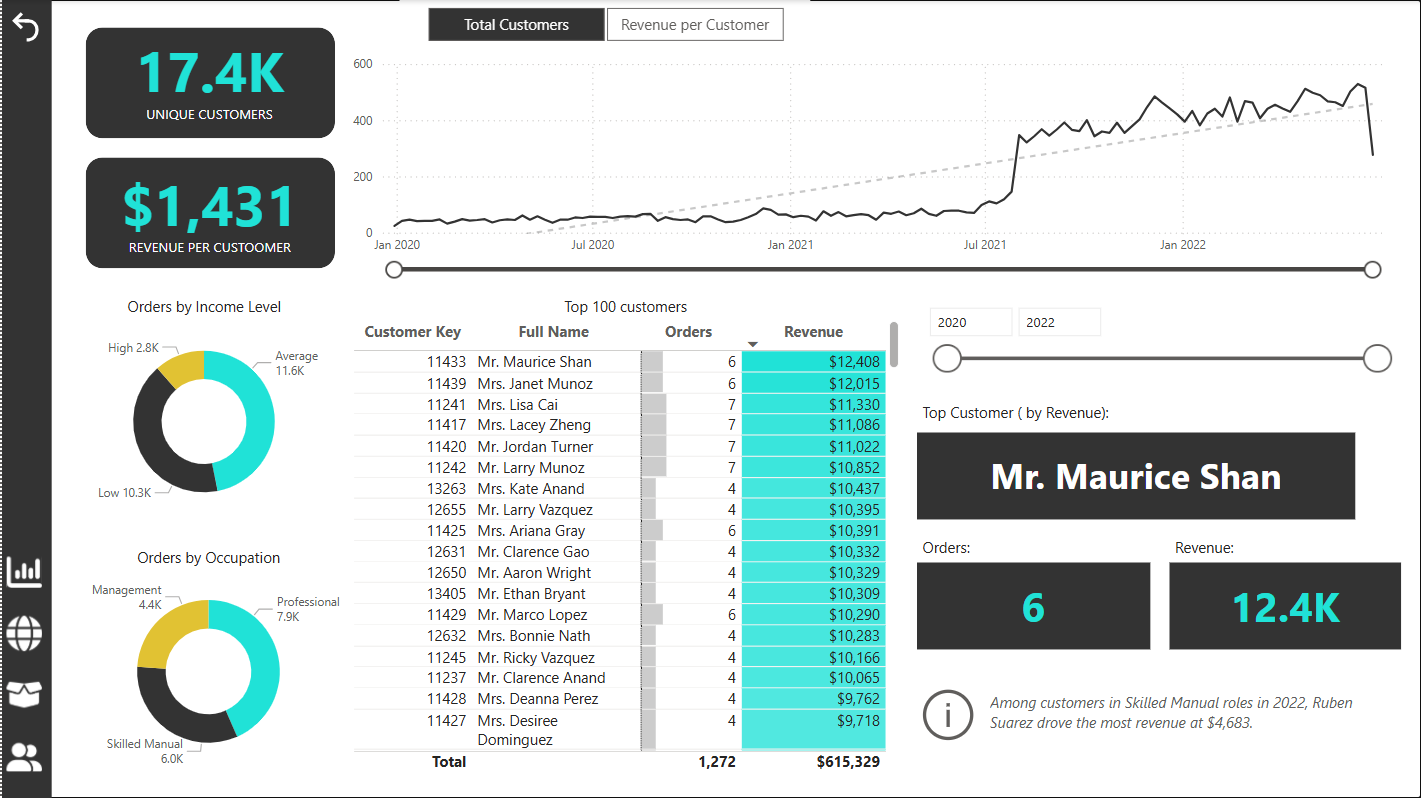

The dashboard page shown, as its layout file describes it:
{"tool":"powerbi","page":{"name":"Customer Detail","canvas":[1280,720],"ordinal":3},"visuals":[{"type":"shape","box":[75,25,225,100],"z":0},{"type":"actionButton","box":[0.3,496.5,45.2,40.4],"z":1000,"group":"g1"},{"type":"shape","box":[75,142.5,225,100],"z":1000},{"type":"card","fields":{"Values":["Measure Table.Total Customers"]},"box":[62.9,0,248.6,140],"z":2000},{"type":"actionButton","box":[0.3,607.4,45.2,40.4],"z":2000,"group":"g1"},{"type":"card","fields":{"Values":["Measure Table.Average Revenue per Customer"]},"box":[64.3,125.7,247.1,128.6],"z":3000},{"type":"actionButton","box":[0.3,662.8,45.2,40.4],"z":3000,"group":"g1"},{"type":"shape","box":[0,0,45,720],"z":4000},{"type":"actionButton","box":[0.3,551.9,45.2,40.4],"z":4000,"group":"g1"},{"type":"donutChart","title":"Orders by Income Level","fields":{"Category":["Customer Lookup.Income Level"],"Y":["Measure Table.Total Orders"]},"box":[63.8,267.5,236.2,208.8],"z":5000},{"type":"donutChart","title":"Orders by Occupation","fields":{"Y":["Measure Table.Total Orders"],"Category":["Customer Lookup.Occupation"]},"box":[62.5,493.8,248.8,206.2],"z":6000},{"type":"tableEx","title":"Top 100 customers","fields":{"Values":["Customer Lookup.CustomerKey","Customer Lookup.Full Name","Measure Table.Total Orders","Measure Table.Total Revenue"]},"box":[311.2,267.5,502.5,433.8],"z":7000},{"type":"card","fields":{"Values":["Measure Table.Full Name (Customer Detail)"]},"box":[825,389.5,395.4,78.2],"z":8000},{"type":"textbox","box":[825,356.7,271.6,31.3],"z":9000},{"type":"card","fields":{"Values":["Measure Table.Total Orders (Customer Detail)"]},"box":[825,507.1,210.5,78.2],"z":10000},{"type":"card","fields":{"Values":["Measure Table.Total Revenue (Customer Detail)"]},"box":[1052.6,507.1,209.1,78.2],"z":11000},{"type":"textbox","box":[825,479.1,136.5,28.4],"z":12000},{"type":"textbox","box":[1052.6,479.1,153.6,32.7],"z":13000},{"type":"slicer","fields":{"Values":["Calendar Lookup.Year"]},"box":[823.8,267.5,437.5,93.8],"z":14000},{"type":"lineChart","title":"Weekly Customers","fields":{"Y":["Measure Table.Total Customers"],"Category":["Calendar Lookup.Date Hierarchy2.Year","Calendar Lookup.Date Hierarchy2.Start of Month","Calendar Lookup.Date Hierarchy2.Start of Week","Calendar Lookup.Date Hierarchy2.Date"]},"box":[311.2,43.8,951.2,210],"z":15000},{"type":"actionButton","box":[824.2,615.1,437.8,58.7],"z":16000},{"type":"actionButton","box":[3.7,4.9,36.7,39.1],"z":17000},{"type":"group","id":"g1","title":"Navigation button","box":[0.3,496.5,45.2,206.7],"z":18000},{"type":"slicer","fields":{"Values":["Customer Metric Selection.Customer Metric Selection"]},"box":[358.8,0,370,43.8],"z":19000}]}

Visuals, with their boxes on the page's 1280x720 design canvas (x1, y1, x2, y2). These are canvas units, not pixel positions in the 1421x798 screenshot, which may show the page scaled, cropped or inside an application window:
shape: box=[75, 25, 300, 125]
actionButton: box=[0, 496, 46, 537]
shape: box=[75, 142, 300, 242]
card - Measure Table.Total Customers: box=[63, 0, 312, 140]
actionButton: box=[0, 607, 46, 648]
card - Measure Table.Average Revenue per Customer: box=[64, 126, 311, 254]
actionButton: box=[0, 663, 46, 703]
shape: box=[0, 0, 45, 720]
actionButton: box=[0, 552, 46, 592]
"Orders by Income Level" donutChart: box=[64, 268, 300, 476]
"Orders by Occupation" donutChart: box=[62, 494, 311, 700]
"Top 100 customers" tableEx: box=[311, 268, 814, 701]
card - Measure Table.Full Name (Customer Detail): box=[825, 390, 1220, 468]
textbox: box=[825, 357, 1097, 388]
card - Measure Table.Total Orders (Customer Detail): box=[825, 507, 1036, 585]
card - Measure Table.Total Revenue (Customer Detail): box=[1053, 507, 1262, 585]
textbox: box=[825, 479, 962, 508]
textbox: box=[1053, 479, 1206, 512]
slicer - Calendar Lookup.Year: box=[824, 268, 1261, 361]
"Weekly Customers" lineChart: box=[311, 44, 1262, 254]
actionButton: box=[824, 615, 1262, 674]
actionButton: box=[4, 5, 40, 44]
"Navigation button" group: box=[0, 496, 46, 703]
slicer - Customer Metric Selection.Customer Metric Selection: box=[359, 0, 729, 44]
